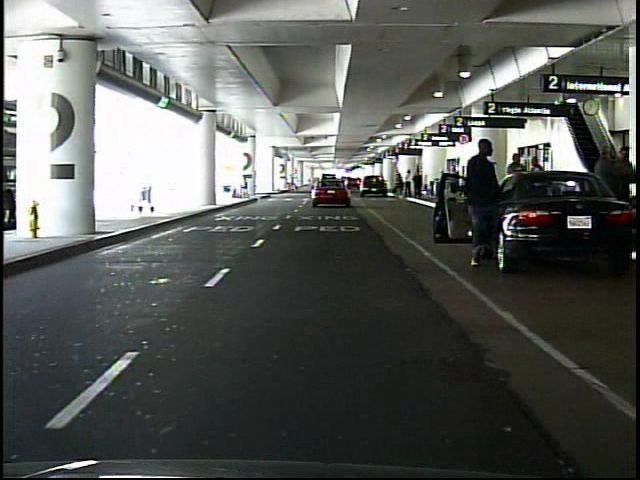person: (465, 138, 504, 273), (579, 142, 621, 229), (608, 145, 635, 236), (505, 151, 529, 218), (528, 155, 547, 217), (404, 168, 414, 200), (414, 170, 424, 200), (396, 173, 405, 197), (287, 176, 297, 193)
